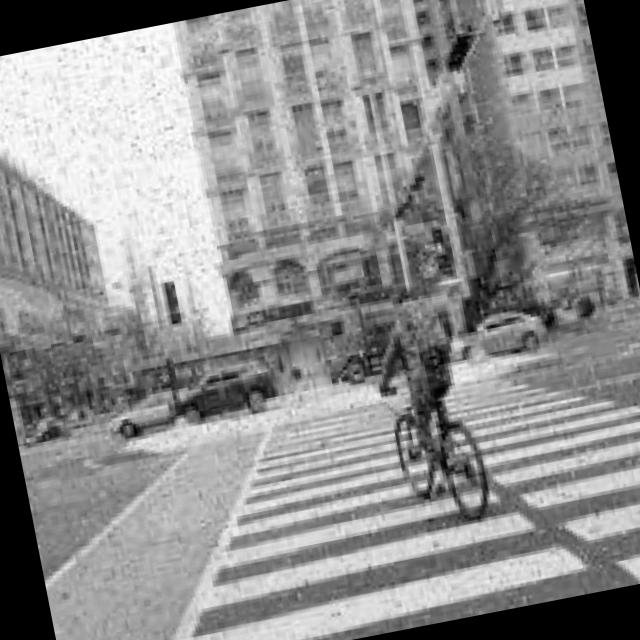zebra: (69, 344, 640, 640)
